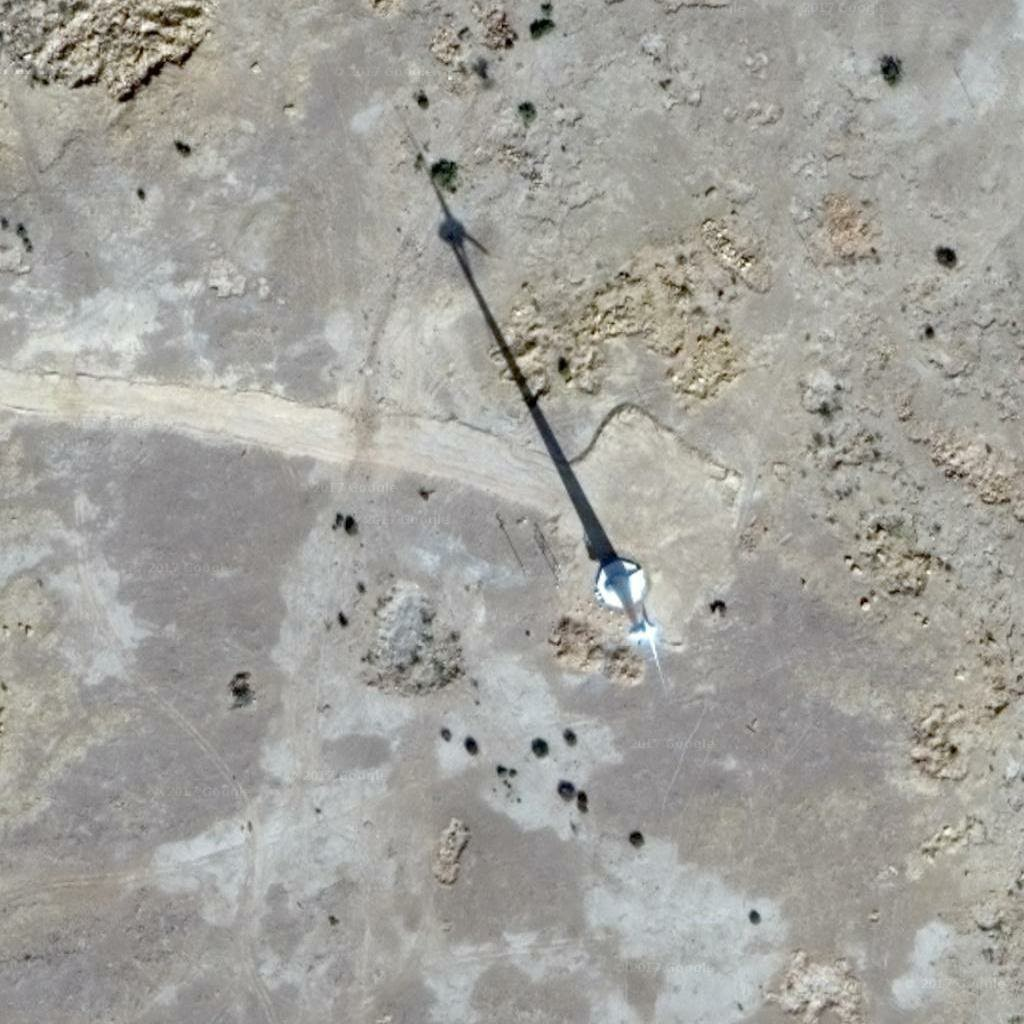Windmill: (390, 162, 663, 558)
